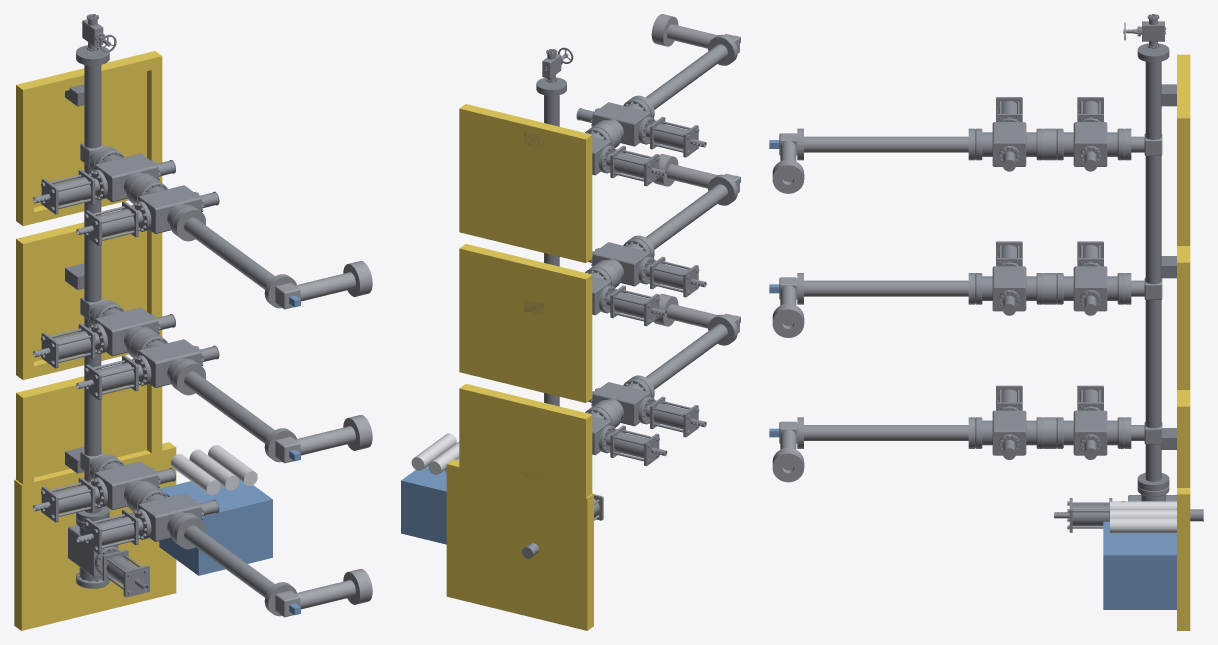
File: WH-ZIPPER.7-10K.glb
3 views of the same model, side by side, from view 1: azimuth 30°, elevation 25°; view 2: azimuth 150°, elevation 25°; view 3: azimuth 270°, elevation 25° (orthographic). The views are drawn at different scales.
Visible parts, largest first — view 1: WH-ZIPPER-SKID, WH-ZIPPER-ISOVALVE, WH-ZIPPER-VALVE, WH-ZIPPER-LEG, WH-ZIPPER-OUTLET, WH-ZIPPER-INLETHEADER, WH-ZIPPER-HPU, WH-ZIPPER-INLETVALVE, WH-ZIPPER-ACCUMULATOR, WH-ZIPPER-BLEEDVALVE; view 2: WH-ZIPPER-SKID, WH-ZIPPER-VALVE, WH-ZIPPER-LEG, WH-ZIPPER-ISOVALVE, WH-ZIPPER-OUTLET, WH-ZIPPER-HPU, WH-ZIPPER-INLETHEADER, WH-ZIPPER-ACCUMULATOR, WH-ZIPPER-BLEEDVALVE; view 3: WH-ZIPPER-LEG, WH-ZIPPER-VALVE, WH-ZIPPER-ISOVALVE, WH-ZIPPER-INLETHEADER, WH-ZIPPER-SKID, WH-ZIPPER-HPU, WH-ZIPPER-OUTLET, WH-ZIPPER-ACCUMULATOR, WH-ZIPPER-INLETVALVE, WH-ZIPPER-BLEEDVALVE.
Part boxes in pixels (x1,y1,x2,y2): WH-ZIPPER-SKID: (14, 51, 176, 630); WH-ZIPPER-ISOVALVE: (33, 149, 175, 522); WH-ZIPPER-VALVE: (76, 181, 219, 553); WH-ZIPPER-LEG: (80, 143, 296, 616); WH-ZIPPER-OUTLET: (275, 261, 372, 617); WH-ZIPPER-INLETHEADER: (65, 45, 109, 522); WH-ZIPPER-HPU: (159, 480, 272, 575); WH-ZIPPER-INLETVALVE: (68, 517, 149, 597); WH-ZIPPER-ACCUMULATOR: (171, 445, 257, 495); WH-ZIPPER-BLEEDVALVE: (82, 14, 116, 52); WH-ZIPPER-SKID: (446, 104, 593, 630); WH-ZIPPER-VALVE: (576, 98, 706, 437); WH-ZIPPER-LEG: (590, 34, 737, 427); WH-ZIPPER-ISOVALVE: (585, 127, 667, 466); WH-ZIPPER-OUTLET: (651, 14, 739, 332); WH-ZIPPER-HPU: (401, 465, 446, 544); WH-ZIPPER-INLETHEADER: (524, 77, 566, 480); WH-ZIPPER-ACCUMULATOR: (411, 433, 459, 474); WH-ZIPPER-BLEEDVALVE: (542, 47, 573, 82); WH-ZIPPER-LEG: (797, 128, 1162, 448); WH-ZIPPER-VALVE: (975, 97, 1043, 459); WH-ZIPPER-ISOVALVE: (1056, 97, 1124, 459); WH-ZIPPER-INLETHEADER: (1137, 43, 1176, 491); WH-ZIPPER-SKID: (1177, 54, 1190, 630); WH-ZIPPER-HPU: (1103, 521, 1176, 609); WH-ZIPPER-OUTLET: (772, 133, 804, 482); WH-ZIPPER-ACCUMULATOR: (1110, 501, 1176, 533); WH-ZIPPER-INLETVALVE: (1054, 485, 1203, 532); WH-ZIPPER-BLEEDVALVE: (1123, 14, 1166, 48).
Bounding box in the file's own units: 4.02 × 9.56 × 6.58.
